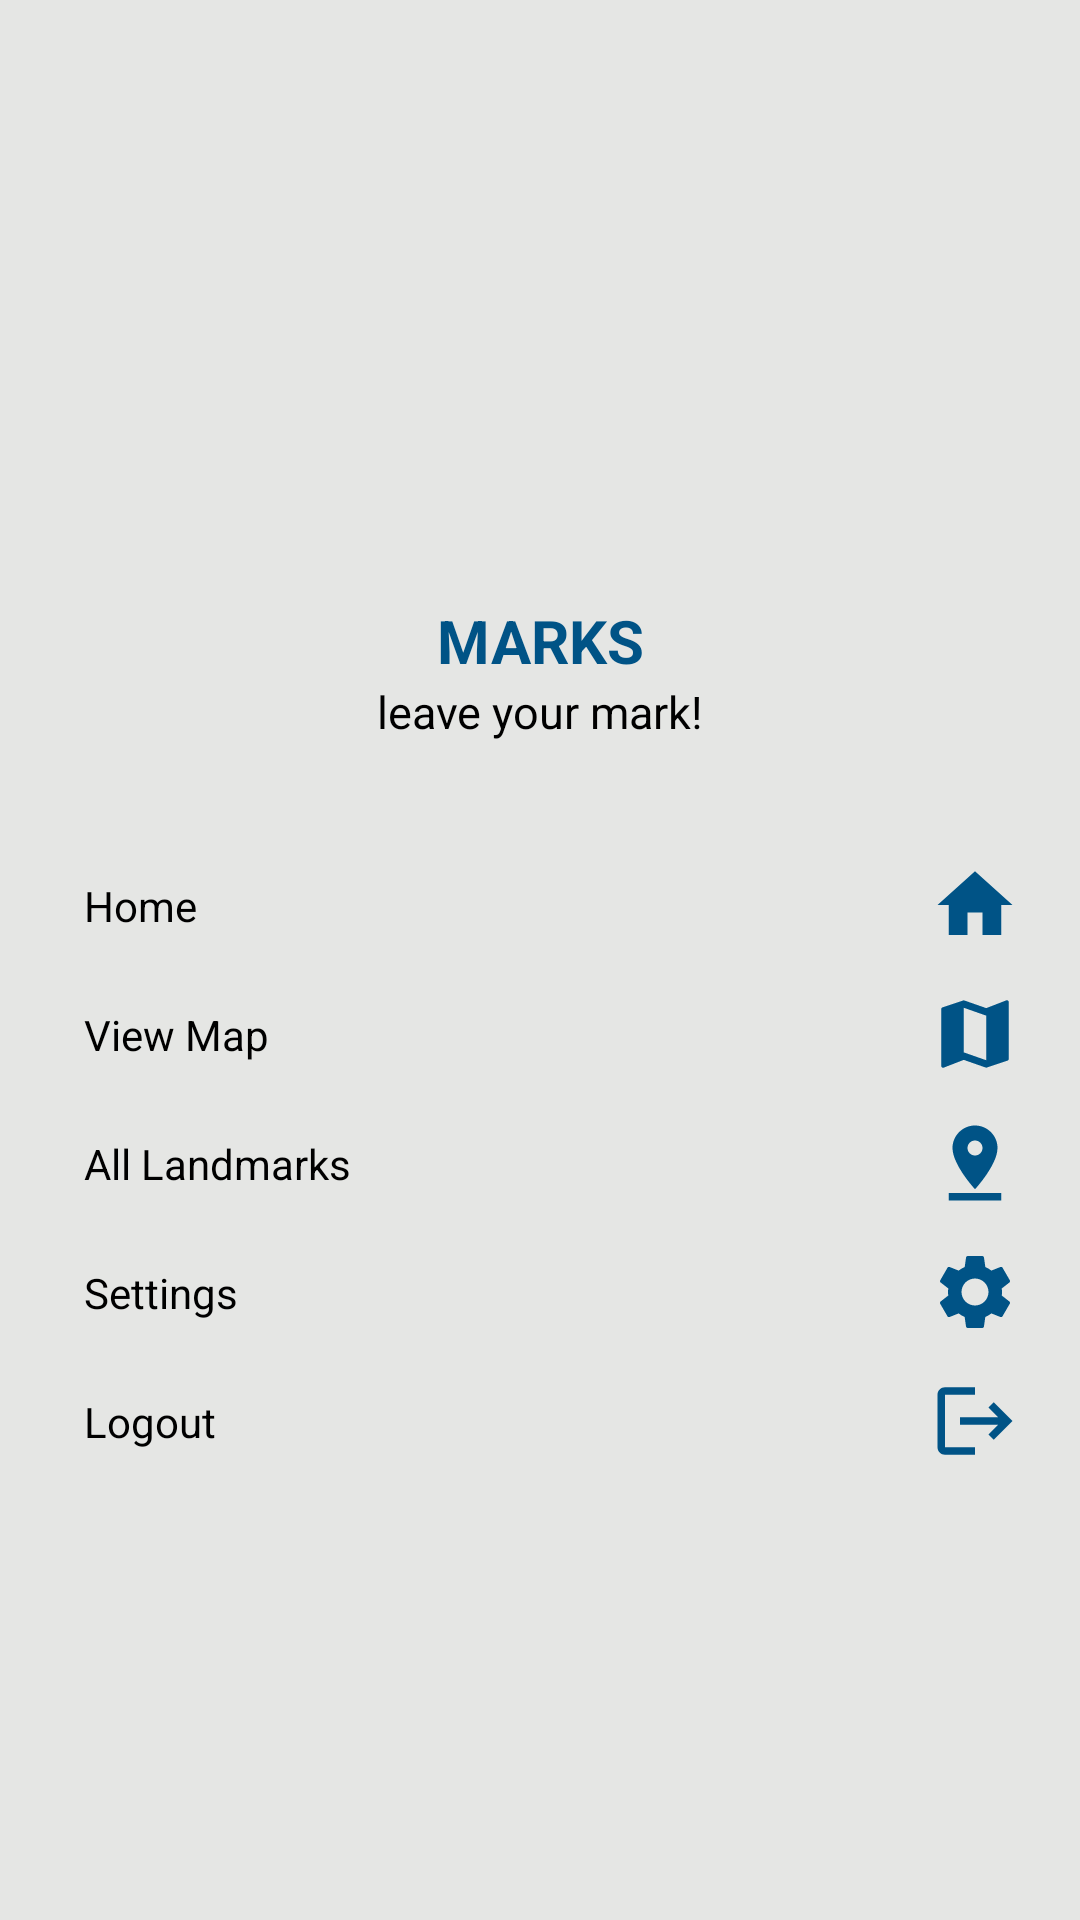

Locate icon controls on the screen. Image size 1080 × 1920, boxes as (x1, y1, x2, y2).
pin drop: (948, 1125, 1002, 1201)
